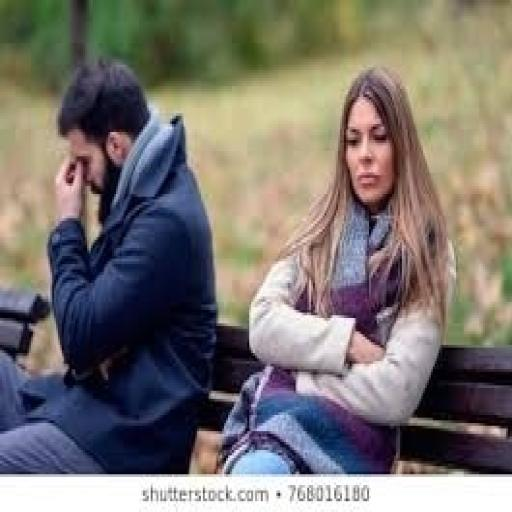sitting: (212, 62, 458, 474), (0, 53, 218, 474)
